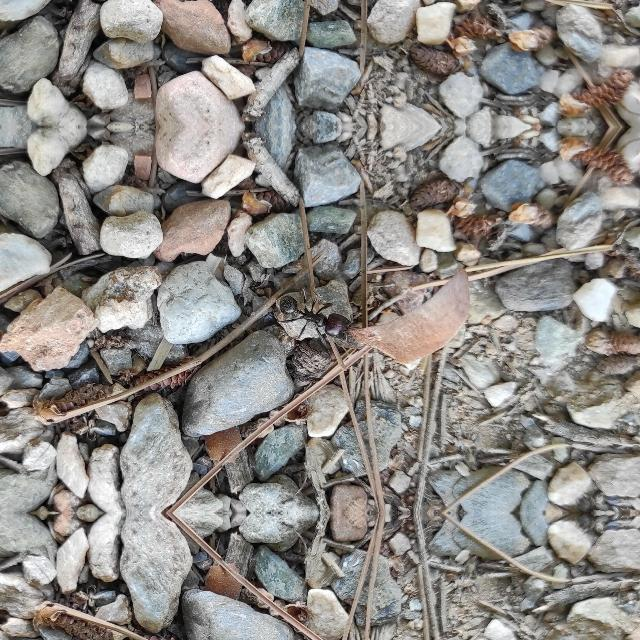Messor: (280, 288, 358, 342)
